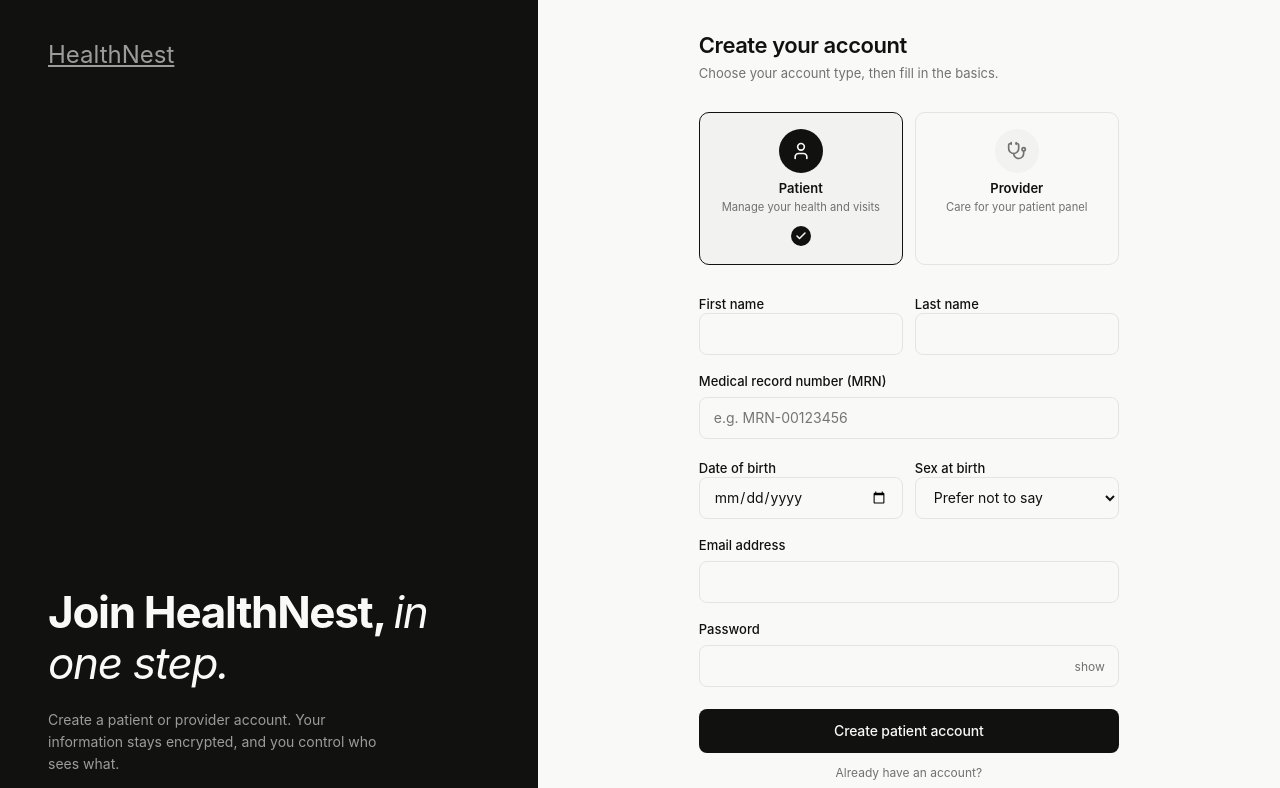
Signup › switches to provider role and hides patient-only fields
Click the text "Provider": (1017, 188) [990,180,1043,196]
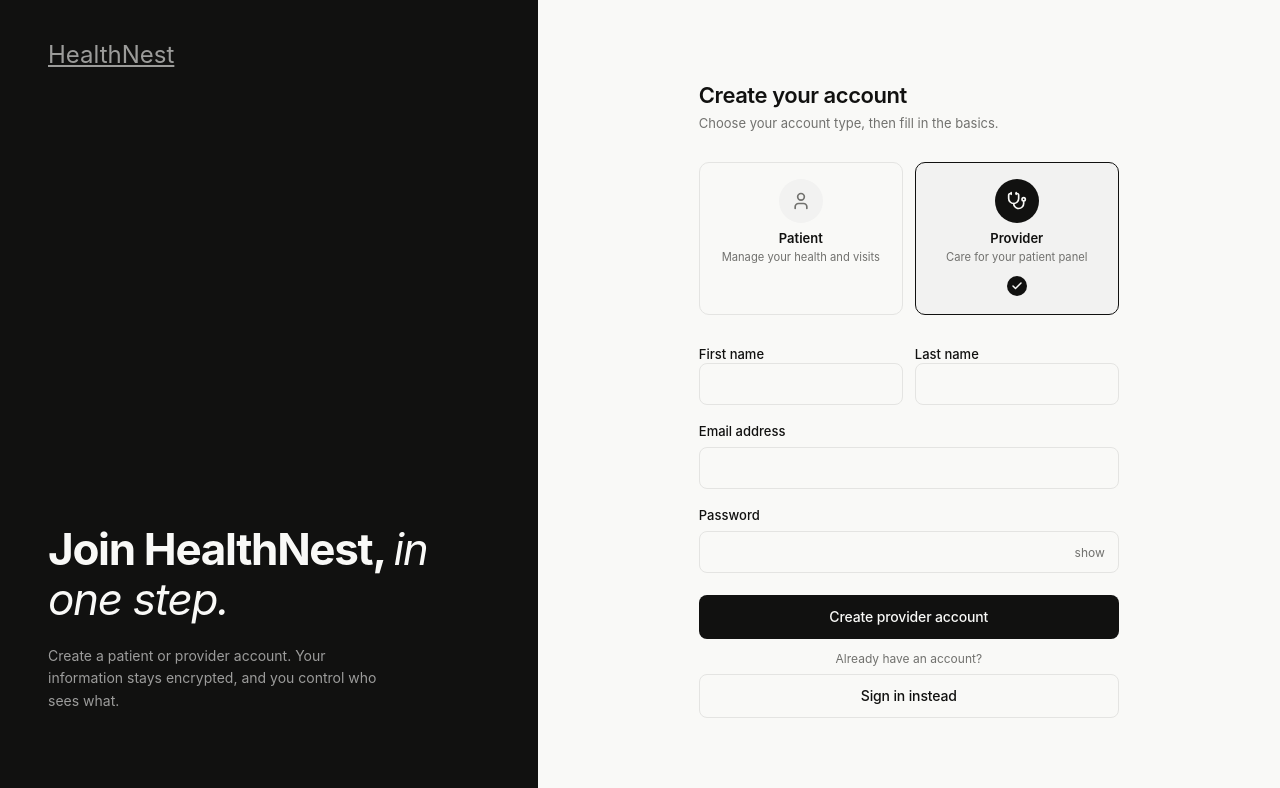
Check: the label labelled "Medical record number (MRN)" is gone
Check: the label labelled "Date of birth" is gone
Check: the label labelled "Sex at birth" is gone
